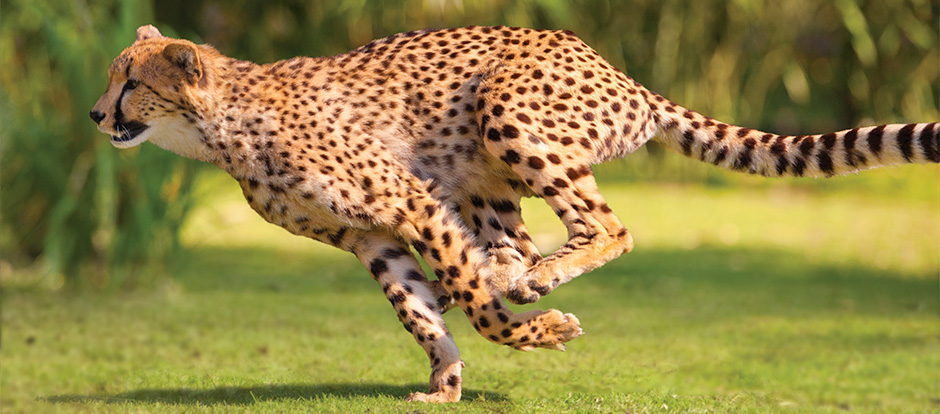Cheetah: (85, 16, 940, 406)
